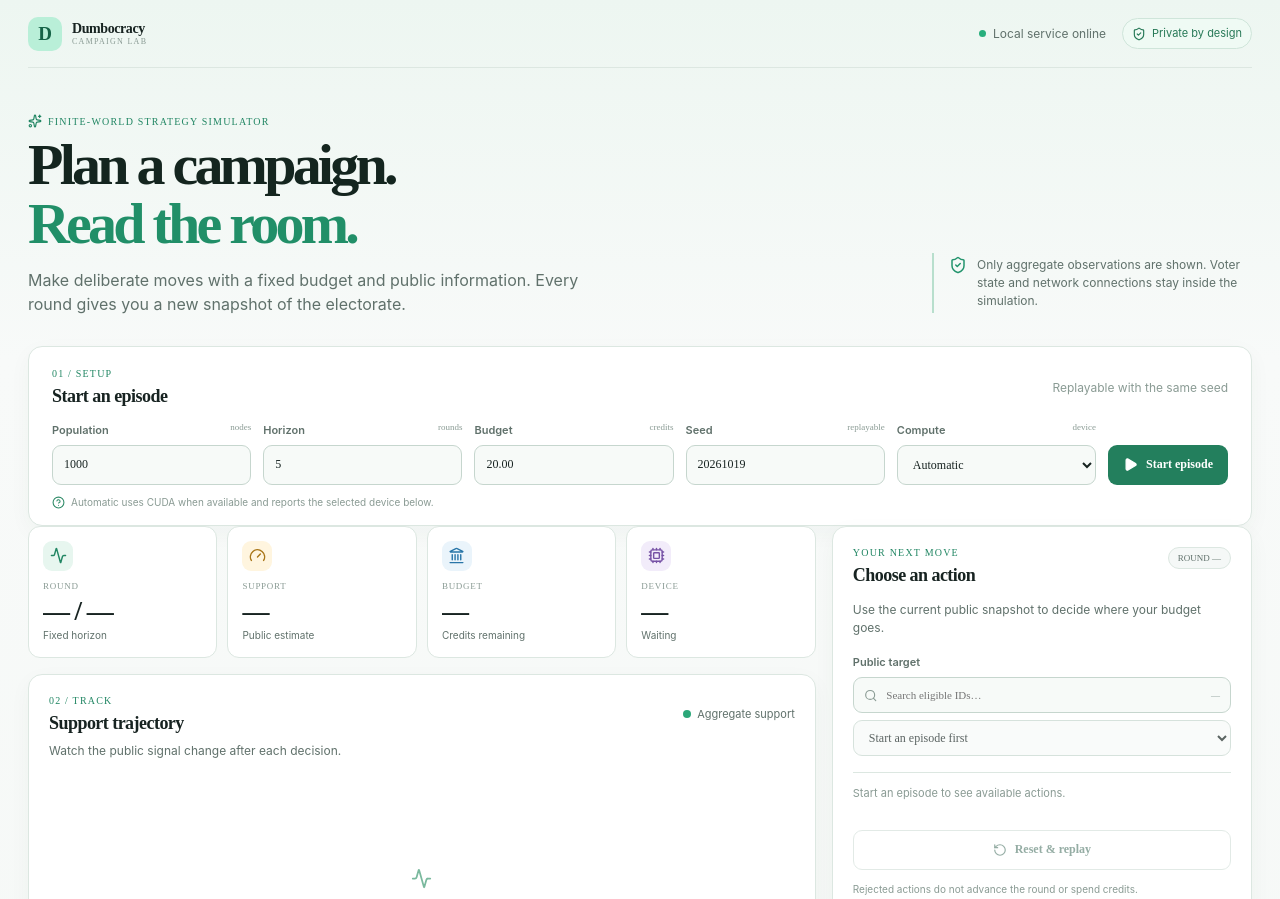
it: Dumbocracy React campaign UI › communicates a rejected action without changing displayed round or funds
Click the button "Start episode".
click(1168, 465)  # box [1108, 445, 1228, 485]
(page scrolled)
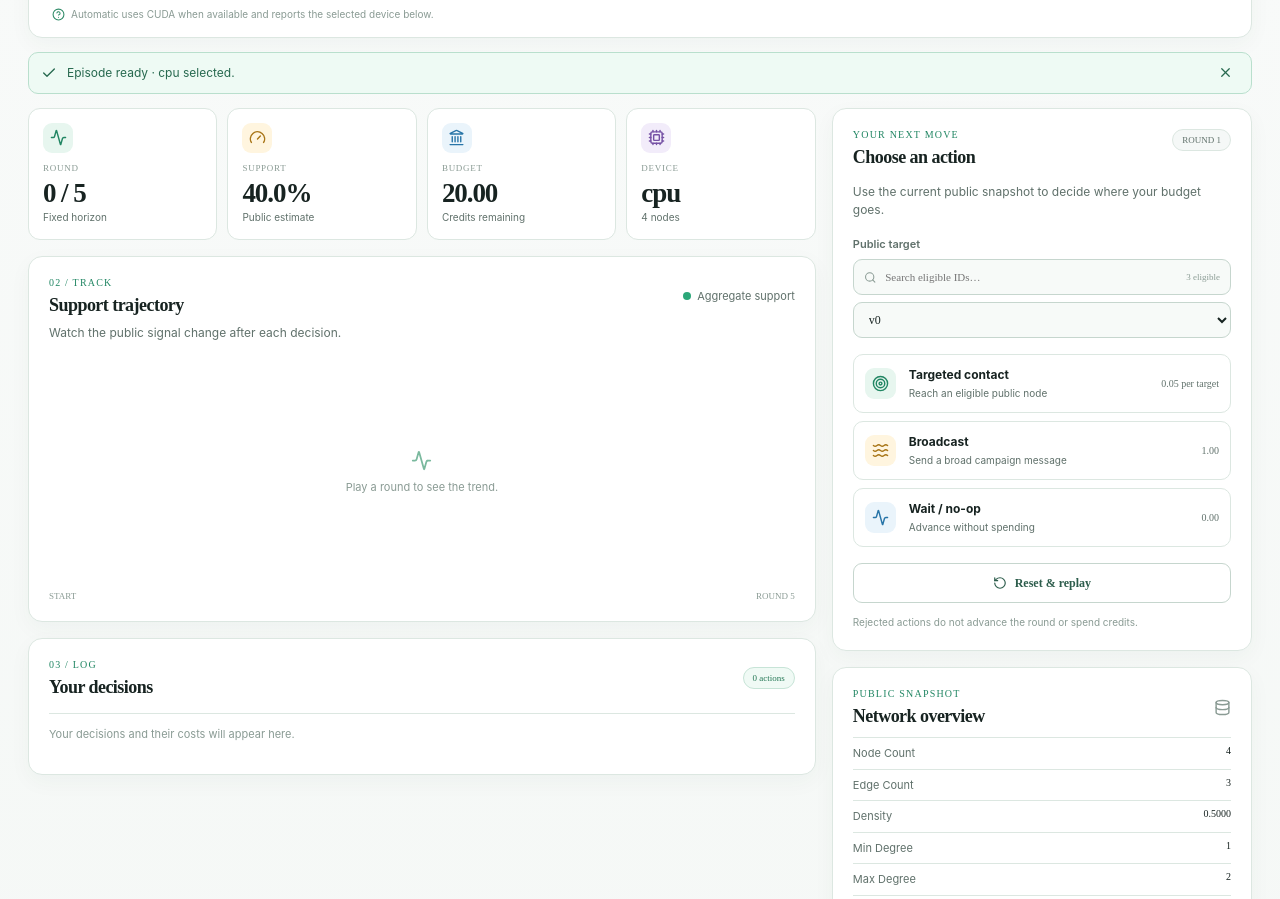
Click the button "Broadcast Send a broad campaign message 1.00".
click(880, 451)  # box [853, 421, 1231, 480]
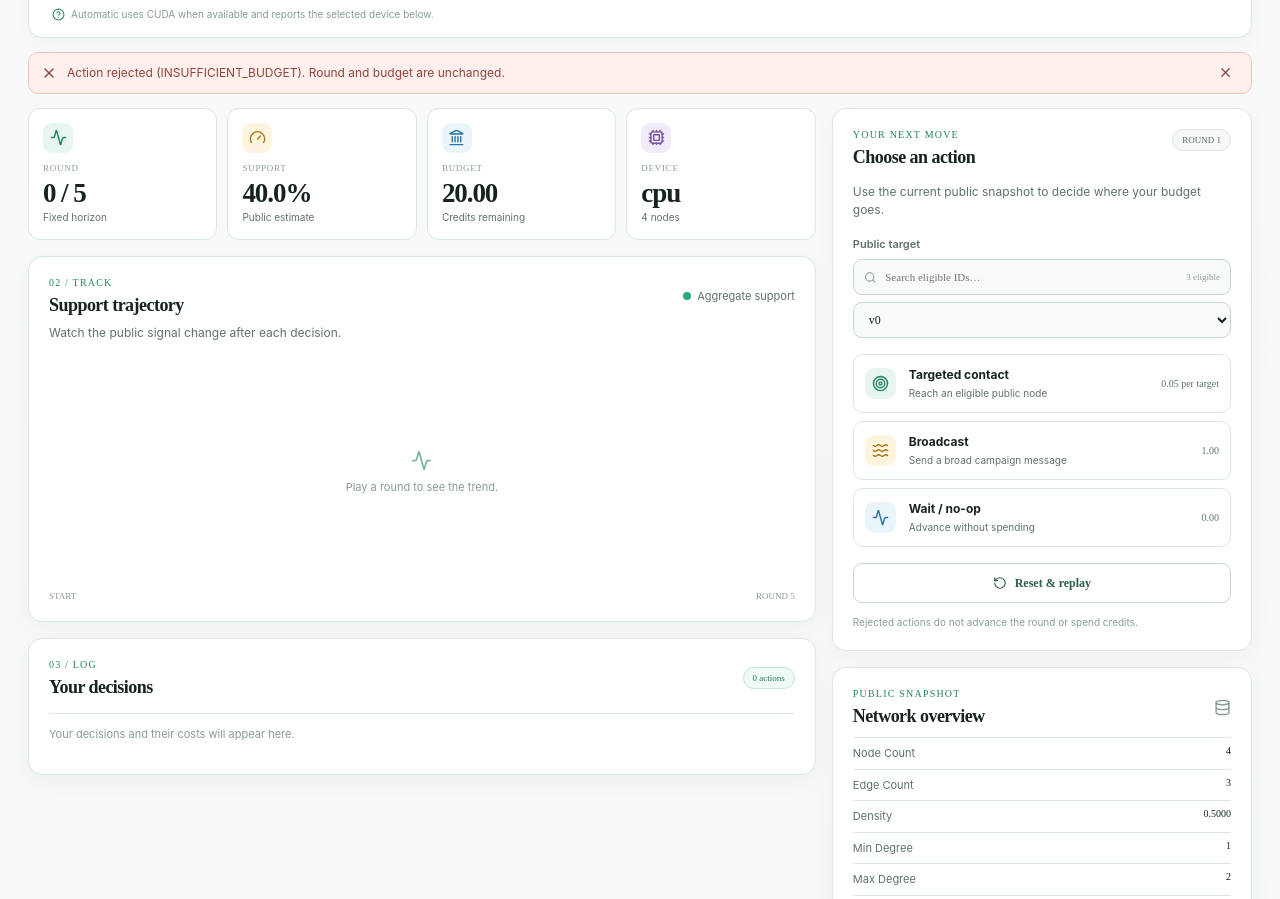
Expected: the text "0 / 5" is shown, [43, 178, 86, 208]
Expected: the text "20.00" is shown, [442, 178, 497, 208]
Expected: the text "Action rejected (INSUFFICIENT_BUDGET)" is shown, [67, 65, 505, 80]
